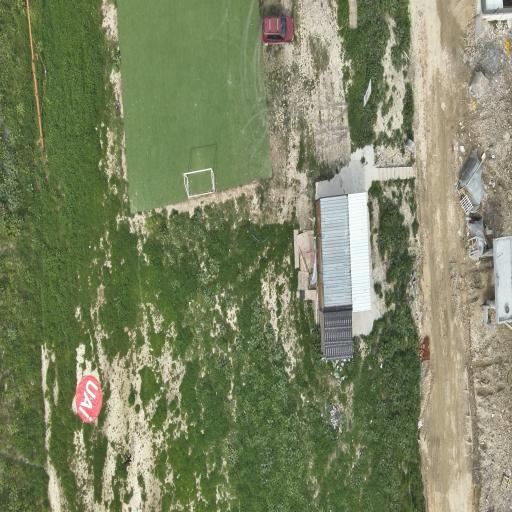UAI: (75, 374, 101, 421)
car: (260, 14, 293, 44)
person: (123, 454, 130, 466)
